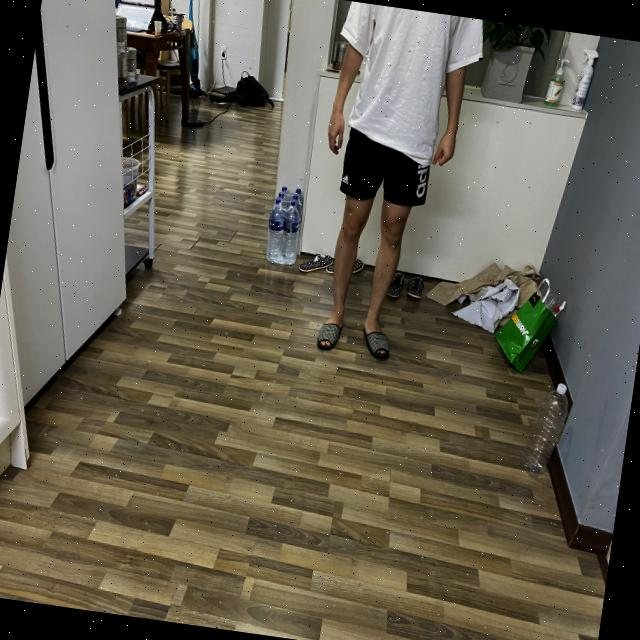no-boots: (302, 306, 356, 366), (354, 312, 406, 374)
